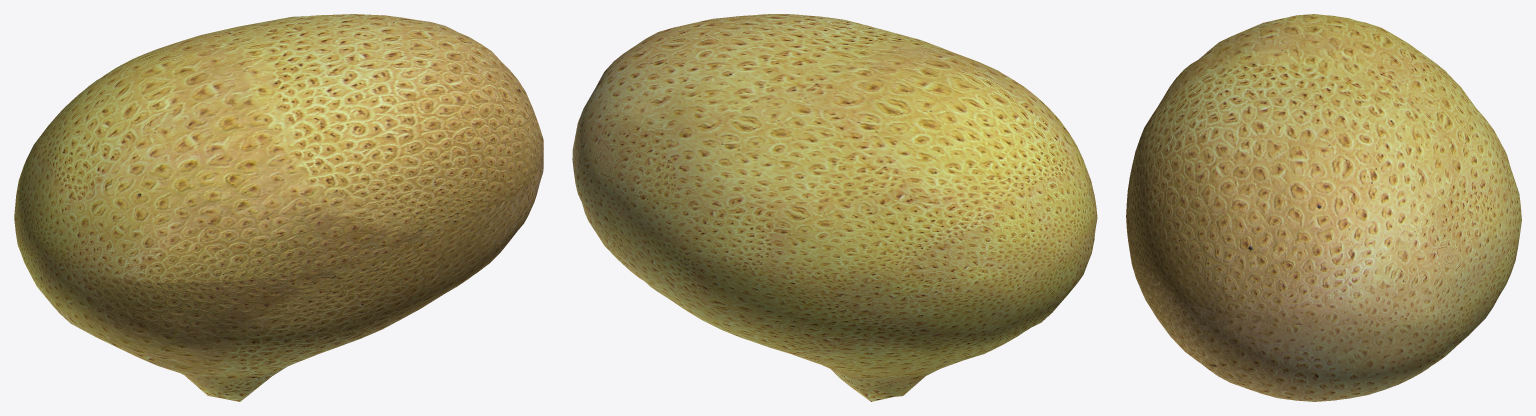
Rendered from Bowist.glb.
The picture shows the model from 3 angles, left to right: view 1: azimuth 30°, elevation 25°; view 2: azimuth 150°, elevation 25°; view 3: azimuth 270°, elevation 25°; orthographic projection.
Visible parts, largest first — view 1: Cube; view 2: Cube; view 3: Cube.
Boxes of the visible parts, bbox=[...] form: Cube: bbox=[14, 14, 543, 401]; Cube: bbox=[572, 14, 1097, 401]; Cube: bbox=[1126, 14, 1521, 401].
Size of the model in its own units: 2.5 by 1.68 by 1.76.
Materials: 1 (1 with a texture image).
